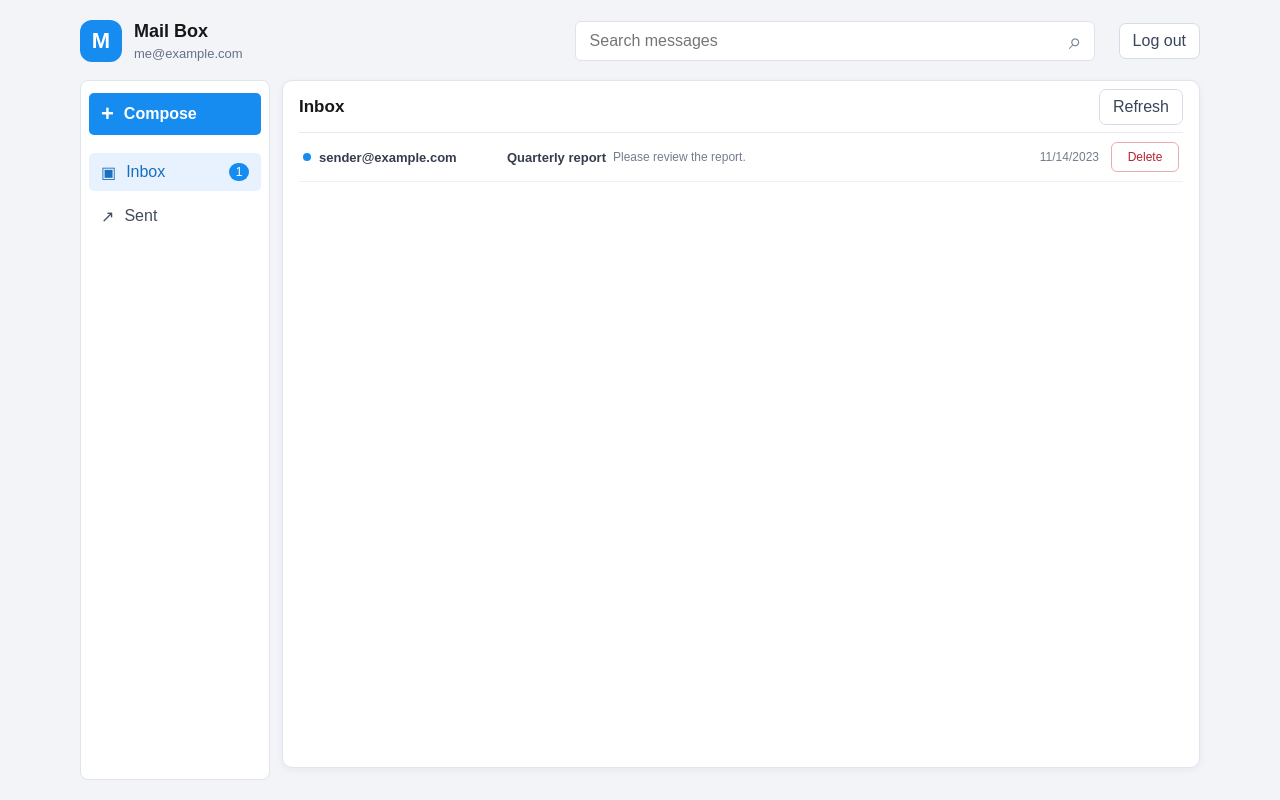
Test case: Inbox mail deletion › deletes the mail through Firebase and removes it from the Inbox
This screenshot has width=1280, height=800.
Click the button with aria-label "Delete Quarterly report" at (1145, 157), box [1111,142,1179,172]
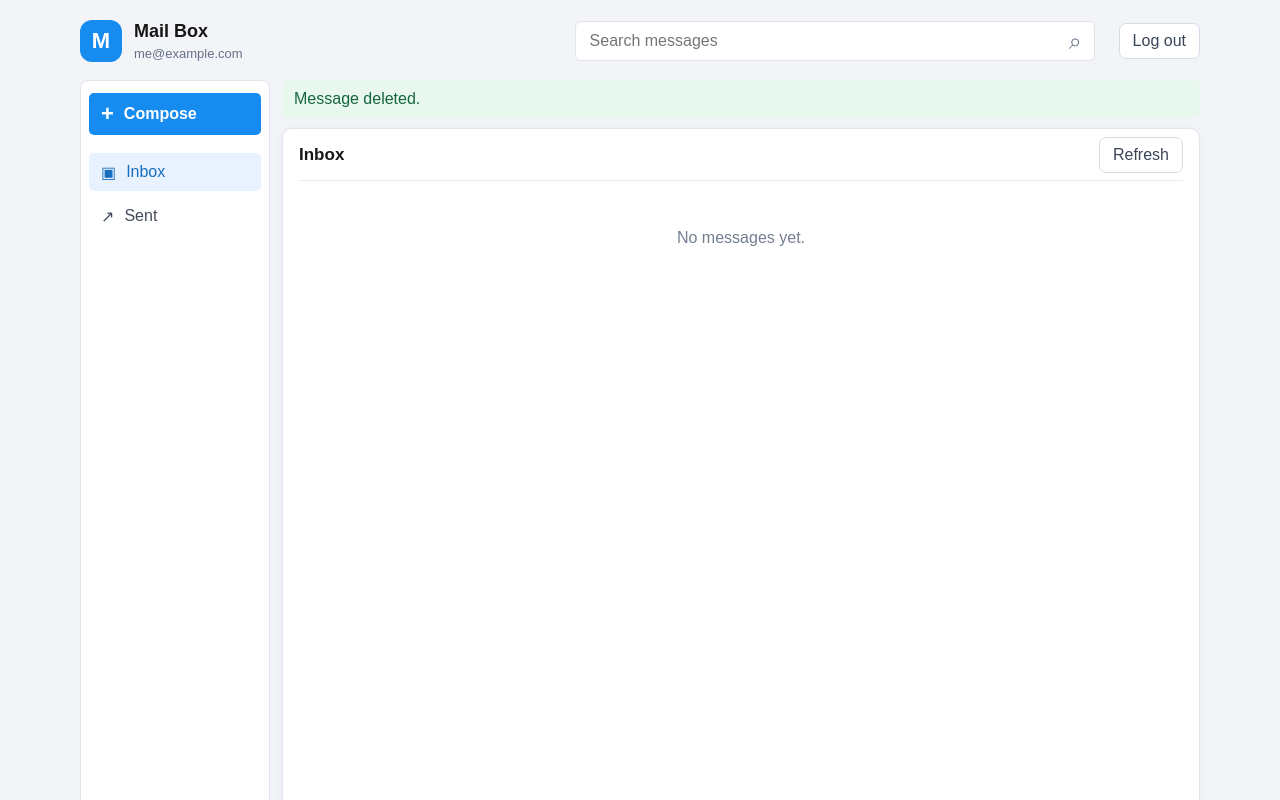
Expected: the button "Quarterly report" is gone
